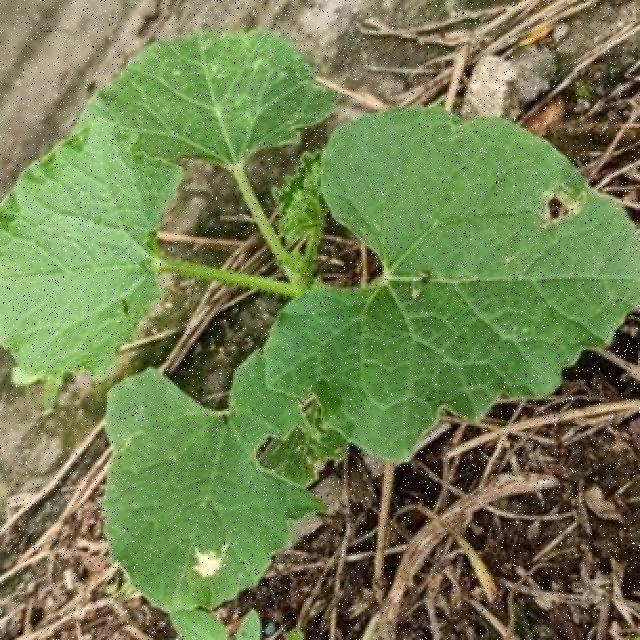plant: (0, 32, 640, 639)
